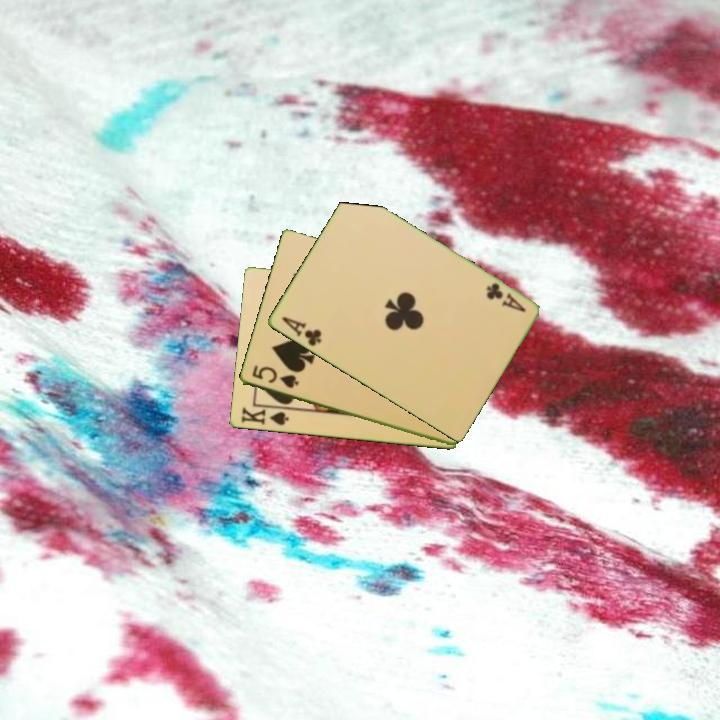5s: (248, 362, 301, 391)
Ac: (277, 313, 324, 349), (482, 279, 528, 315)
Ks: (237, 403, 293, 428)
